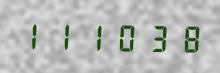eight: (168, 21, 197, 54)
one: (47, 18, 76, 52), (17, 18, 46, 51), (78, 19, 107, 52)
three: (138, 20, 167, 53)
zero: (108, 19, 137, 53)
